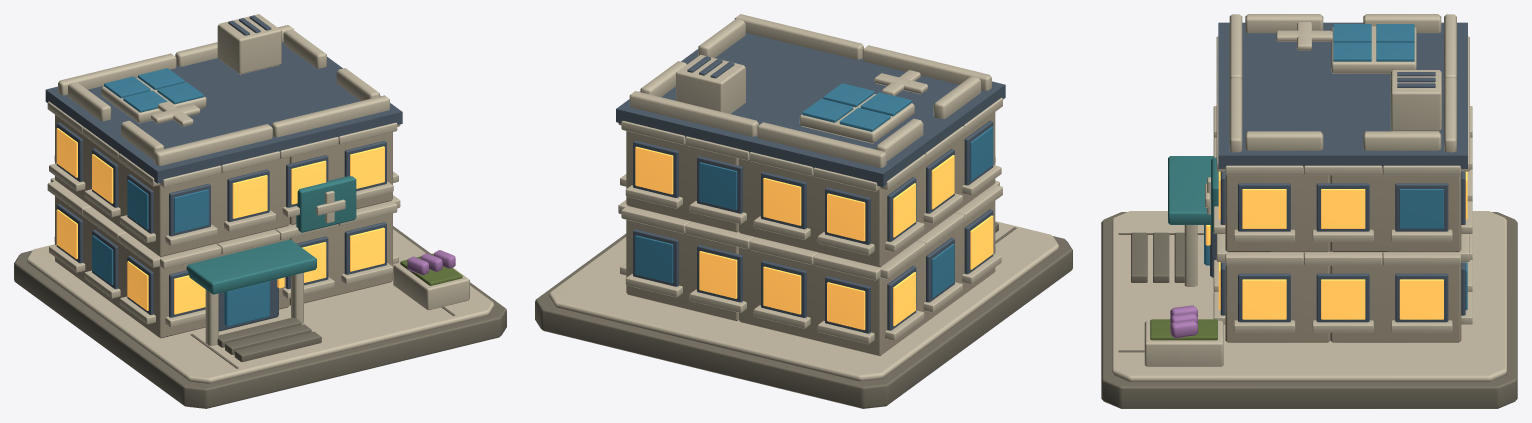
The model's file is civilian-clinic-normal.glb.
3 renders of one model, left to right at view 1: azimuth 30°, elevation 25°; view 2: azimuth 150°, elevation 25°; view 3: azimuth 270°, elevation 25°, orthographic. The views are drawn at different scales.
Parts seen in each view (by area): view 1: CivilianShell; view 2: CivilianShell; view 3: CivilianShell.
Boxes of the visible parts, x1,y1,x2,y2 form: CivilianShell: [14, 14, 506, 408]; CivilianShell: [535, 14, 1072, 408]; CivilianShell: [1101, 14, 1517, 408].
Size of the model in its own units: 1.98 by 1.38 by 1.98.
